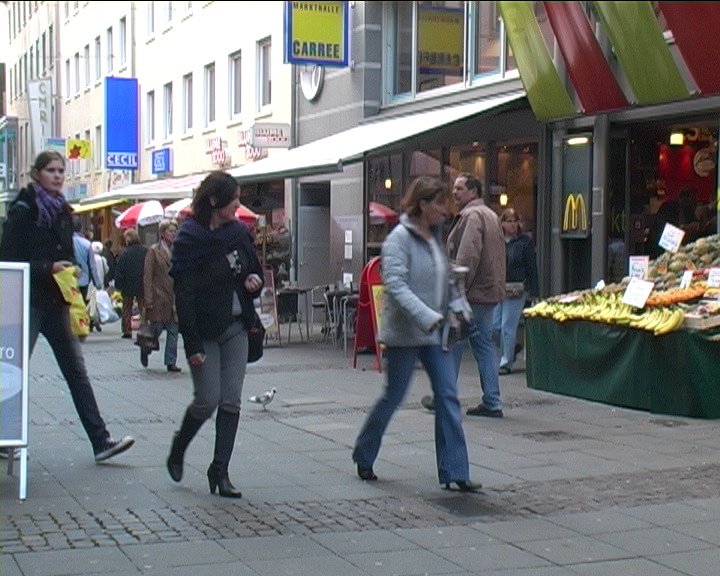deflection: (180, 171, 258, 278)
